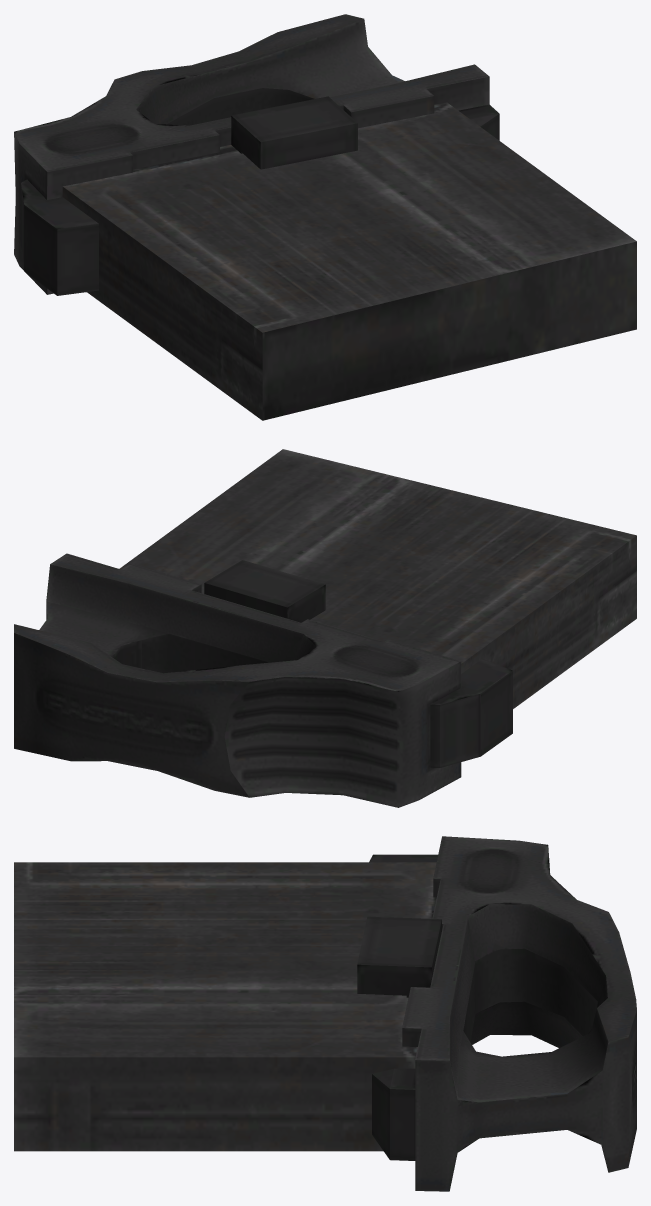
Rendered from t6_attach_fastmag_xpr50_world_LOD0.obj.
The picture shows the model from 3 angles, top to bottom: view 1: azimuth 30°, elevation 25°; view 2: azimuth 150°, elevation 25°; view 3: azimuth 270°, elevation 25°; orthographic projection. The views are drawn at different scales.
Parts seen in each view (by area): view 1: mtl_t6_wpn_sniper_xpr50, mtl_t6_attach_sniper_fastmag, mtl_t6_wpn_sniper_xpr50_camo2; view 2: mtl_t6_attach_sniper_fastmag, mtl_t6_wpn_sniper_xpr50; view 3: mtl_t6_wpn_sniper_xpr50, mtl_t6_attach_sniper_fastmag.
Part boxes in pixels (x1,y1,x2,y2): mtl_t6_wpn_sniper_xpr50: (62, 102, 636, 420); mtl_t6_attach_sniper_fastmag: (14, 14, 499, 295); mtl_t6_wpn_sniper_xpr50_camo2: (262, 241, 636, 420); mtl_t6_attach_sniper_fastmag: (14, 553, 512, 807); mtl_t6_wpn_sniper_xpr50: (119, 449, 636, 708); mtl_t6_wpn_sniper_xpr50: (14, 862, 436, 1151); mtl_t6_attach_sniper_fastmag: (357, 836, 636, 1191).
Bounding box in the file's own units: 13.91 × 4.29 × 15.5.
